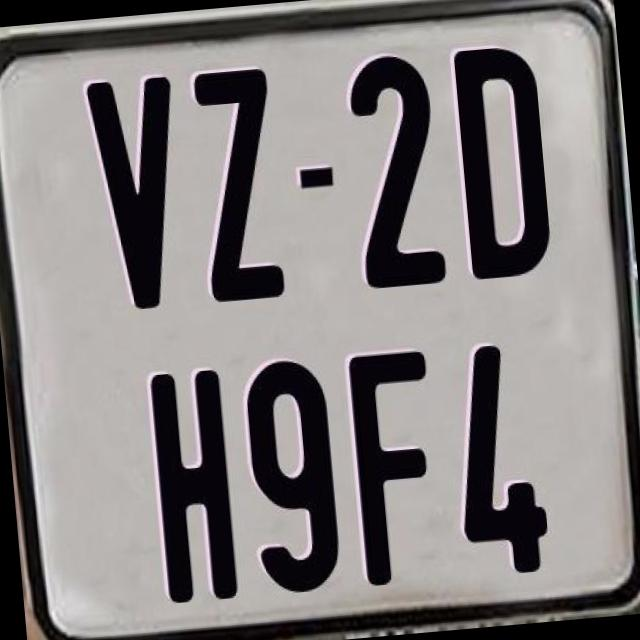2: (346, 48, 454, 292)
4: (446, 337, 550, 580)
9: (241, 355, 345, 598)
D: (452, 41, 552, 276)
F: (343, 344, 442, 590)
H: (149, 369, 240, 606)
V: (82, 75, 186, 312)
Z: (190, 68, 285, 302)
